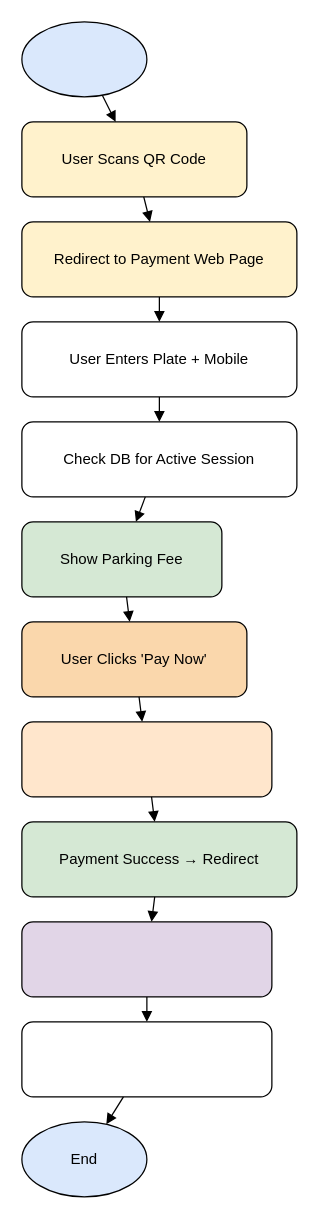
This 319x1219 diagram has some shape labels left out. Each missing label, with the centre of its shape:
Redirect to Bank Portal: (x=146, y=759)
Show Receipt + Download: (x=146, y=959)
Start: (x=84, y=59)
Update DB, Mark as Paid: (x=146, y=1059)
